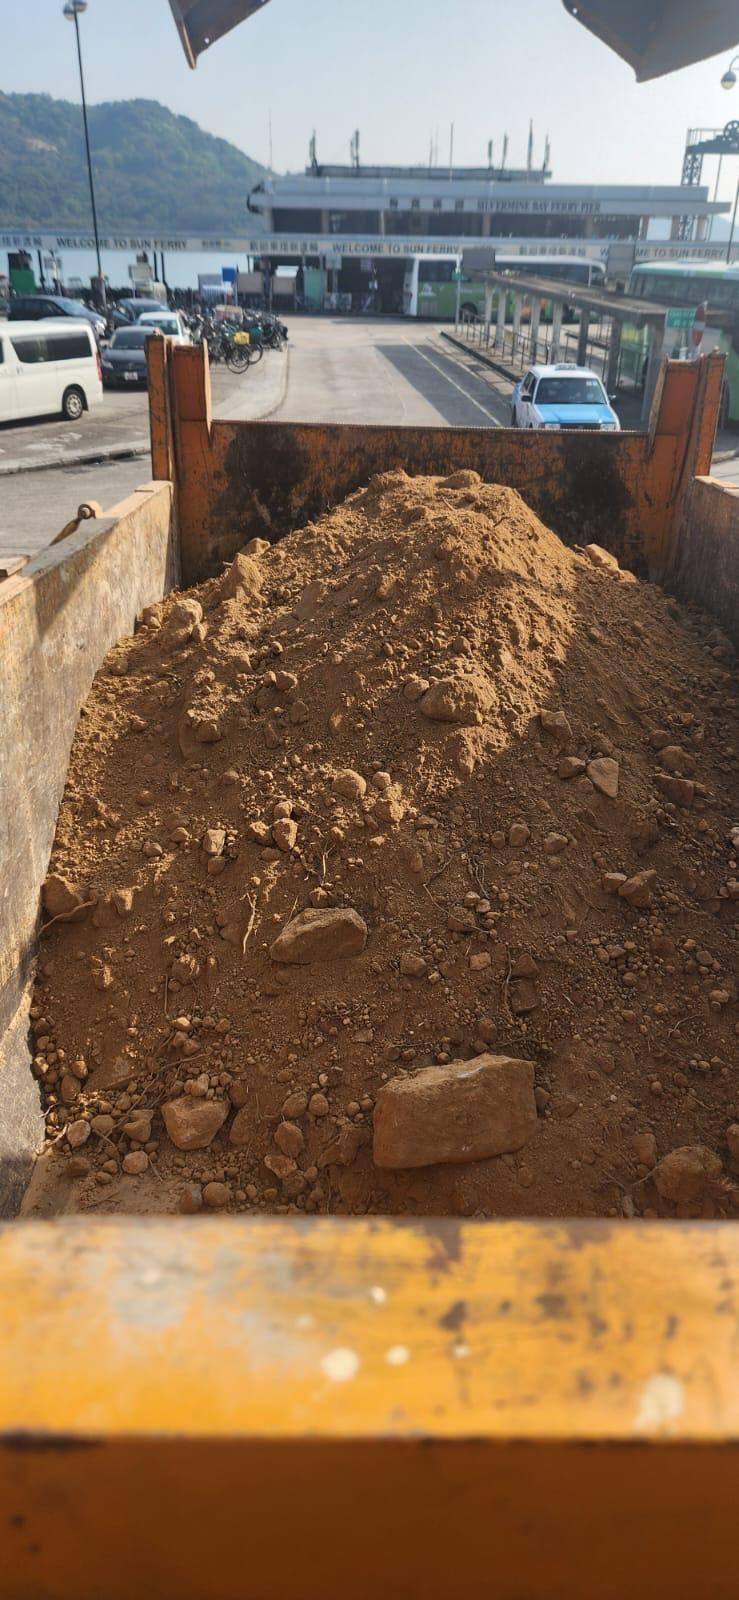dirt: (23, 462, 737, 1219)
stone: (371, 1052, 537, 1170), (268, 905, 368, 964), (160, 1093, 229, 1150), (418, 676, 479, 723), (618, 868, 657, 907), (585, 755, 619, 797), (331, 767, 366, 799), (539, 708, 572, 740)
